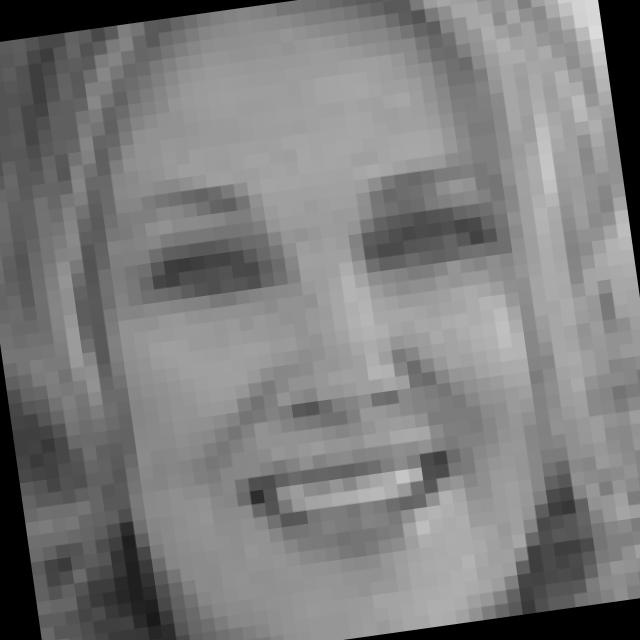happy: (106, 138, 537, 584)
